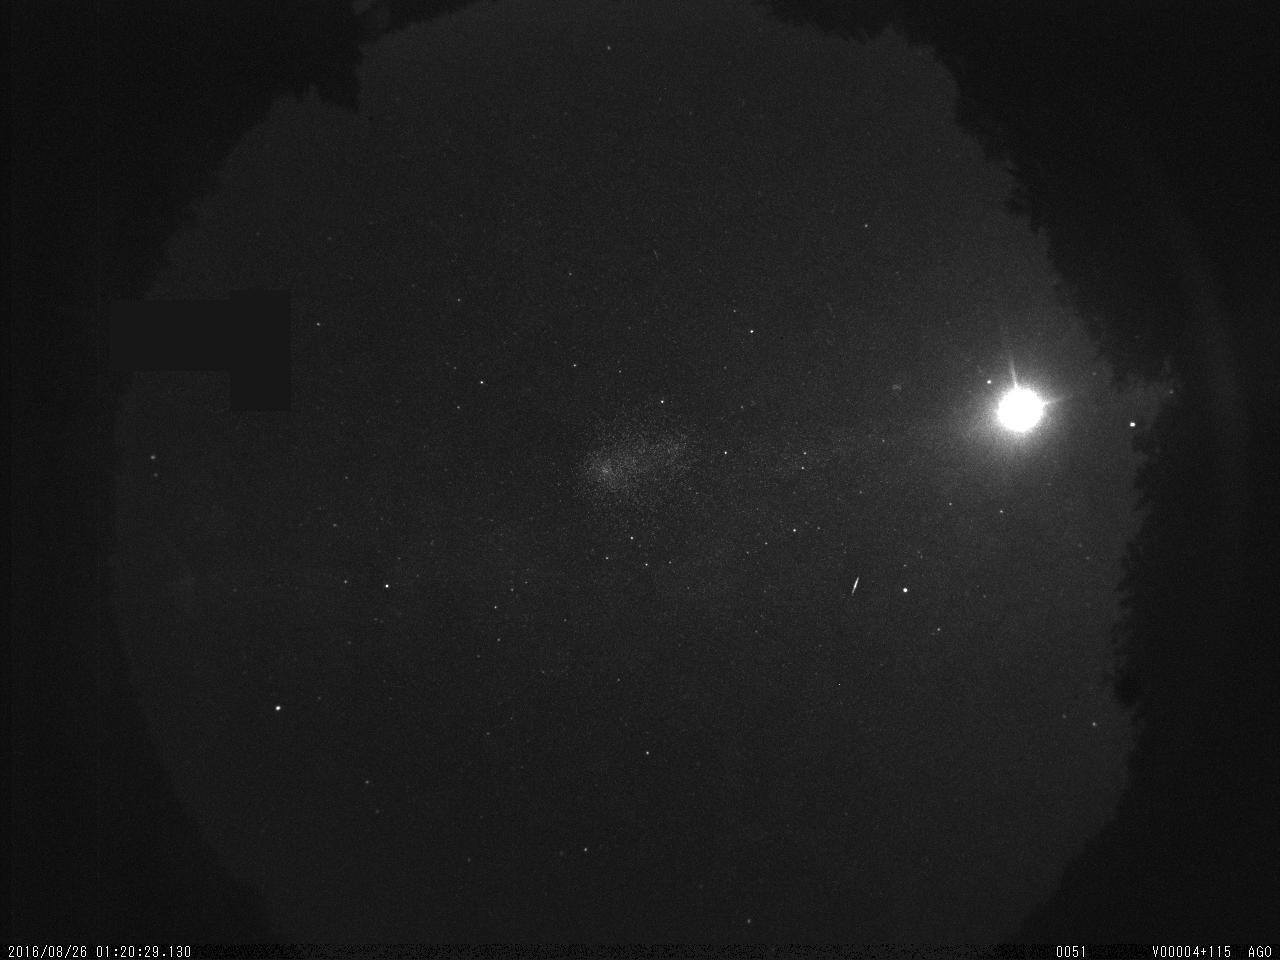meteor: (845, 570, 865, 601)
